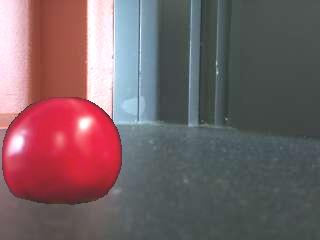Tomato: (0, 97, 123, 205)
